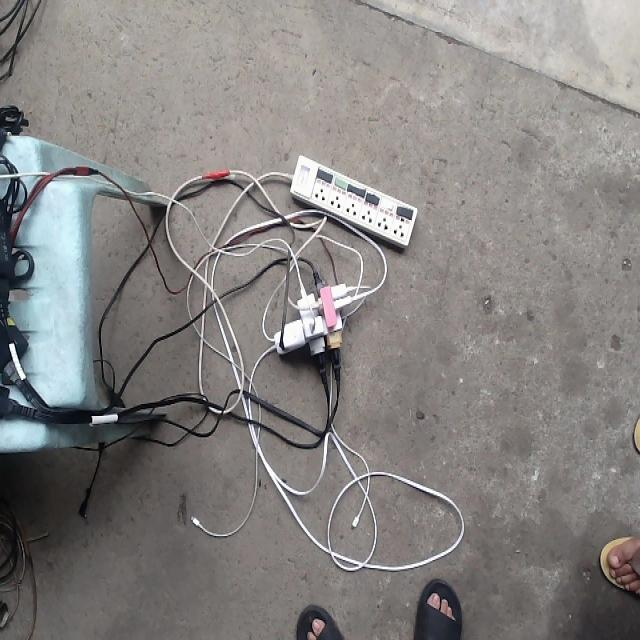-: (270, 276, 354, 356)
